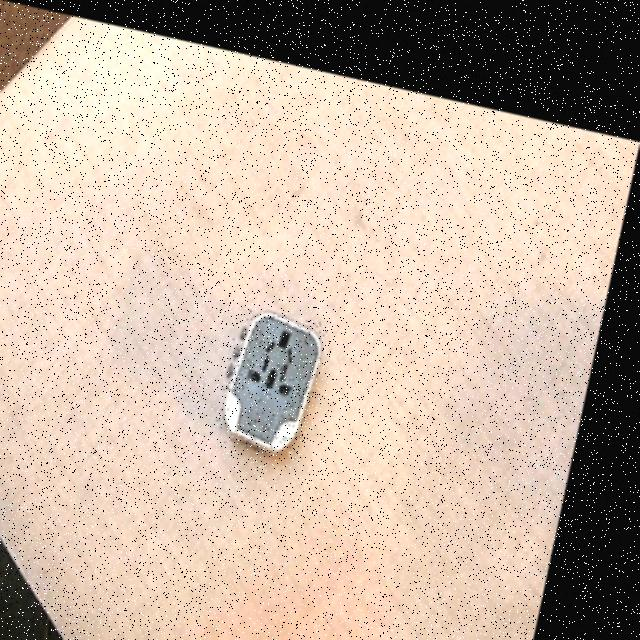adapter: (228, 290, 339, 444)
